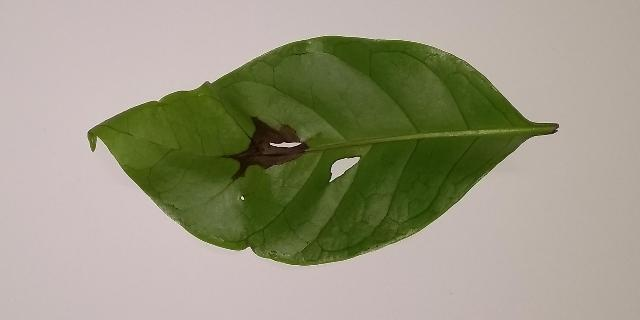rust: (230, 117, 308, 178)
